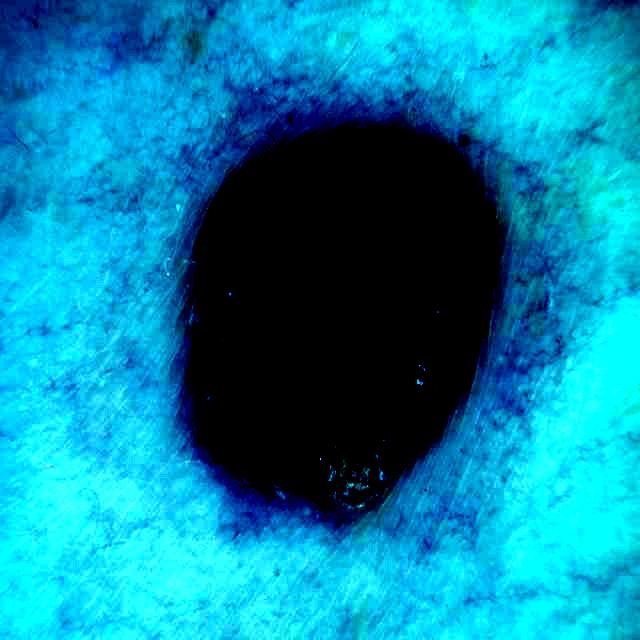BKL: (199, 132, 495, 508)
